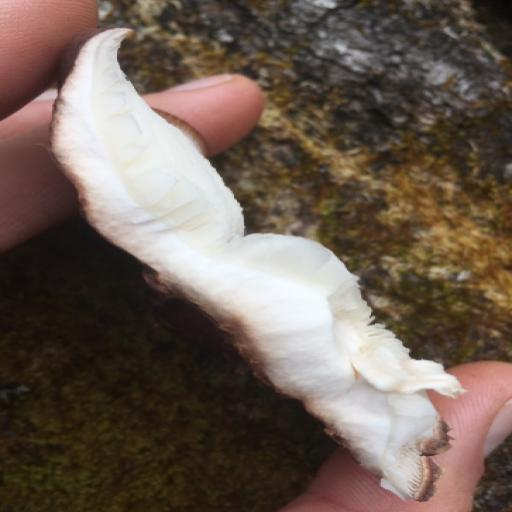Shiitake Mushroom: (30, 24, 494, 498)
